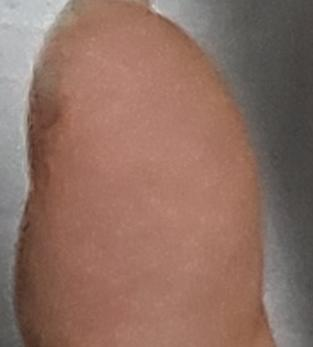Fingerprints: (28, 1, 265, 347)
